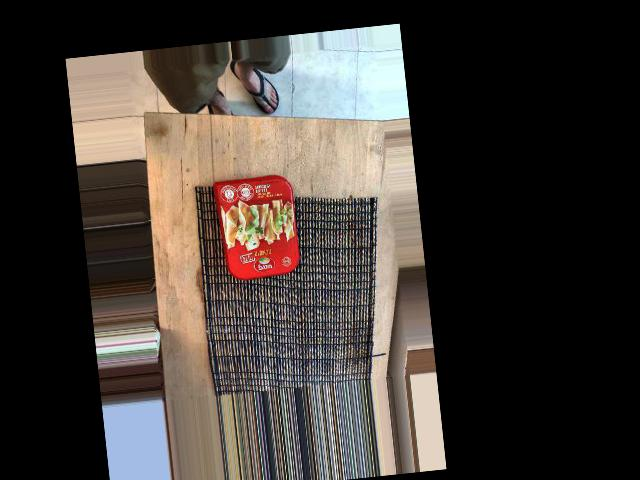cheese: (240, 203, 377, 305)
